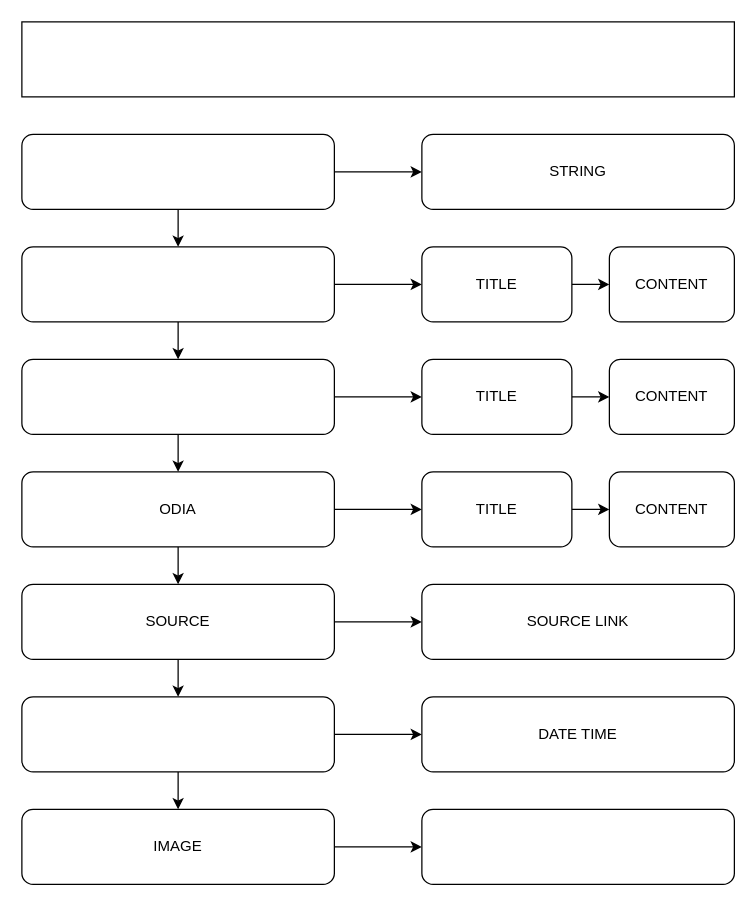
Image size: 756x906. Some labels were removed from this diagram. The shapes that lost their labels are listed below. From the top down, each one's box as (x1, y1, x2, y2) in pixels, then its label:
(21, 21, 734, 97): ATTRIBUTES REQUIRED
(21, 133, 334, 209): ARTICLE ID
(21, 246, 334, 322): ENGLISH
(21, 358, 334, 434): HINDI
(21, 696, 334, 772): DATE
(421, 808, 734, 884): IMAGE LINK
